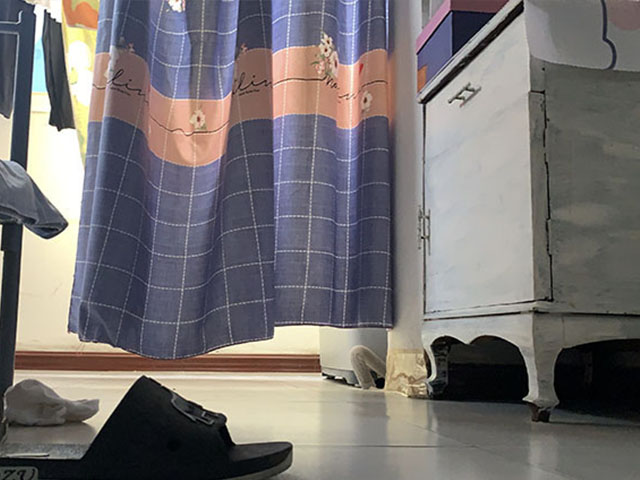cabinet: (417, 1, 640, 417)
curtain: (62, 1, 398, 362)
slippers: (1, 374, 315, 479)
socks: (4, 378, 102, 426)
